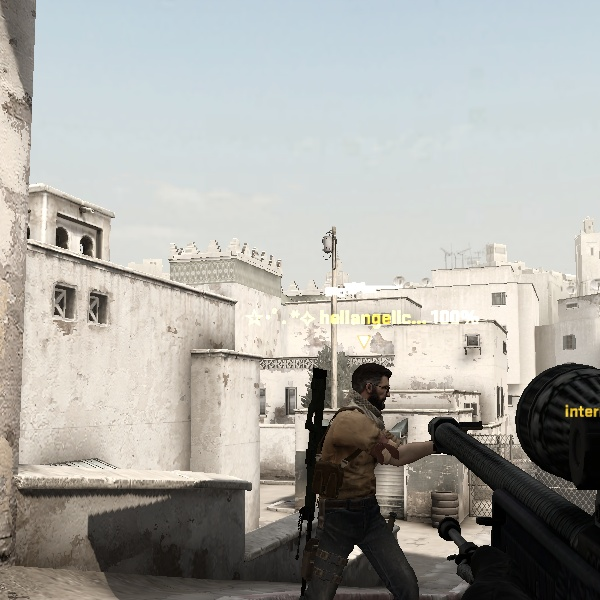t_body: (288, 352, 440, 594)
t_head: (341, 354, 405, 417)
